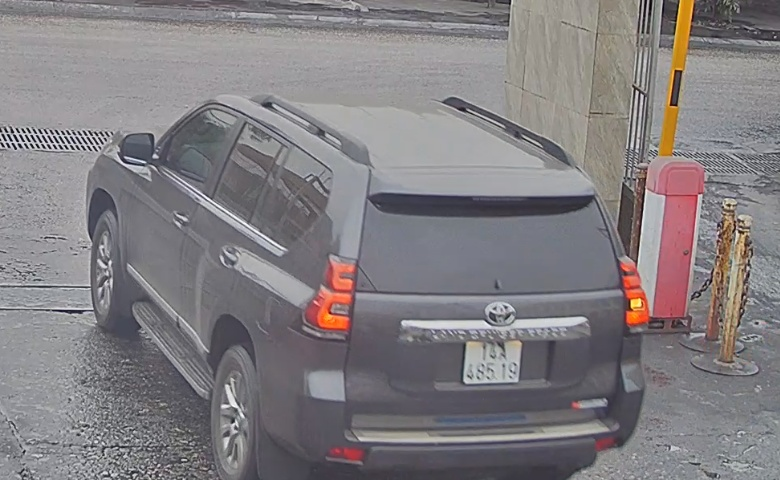vehicle plate: (458, 334, 525, 387)
